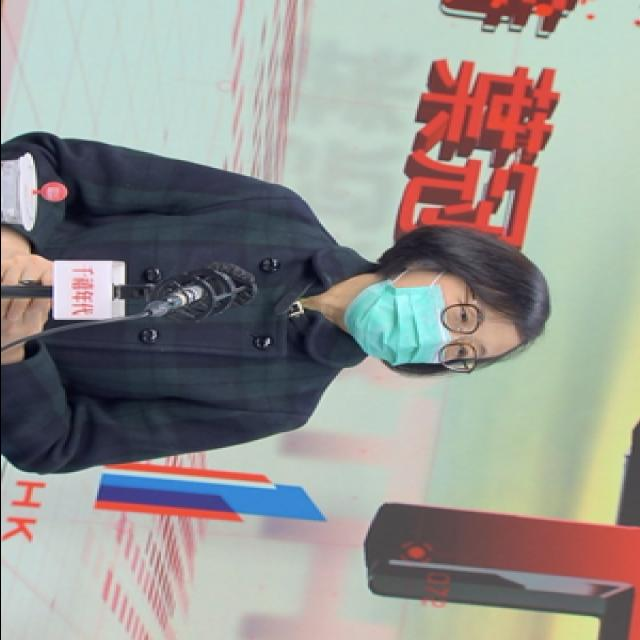with_mask: (341, 272, 493, 370)
